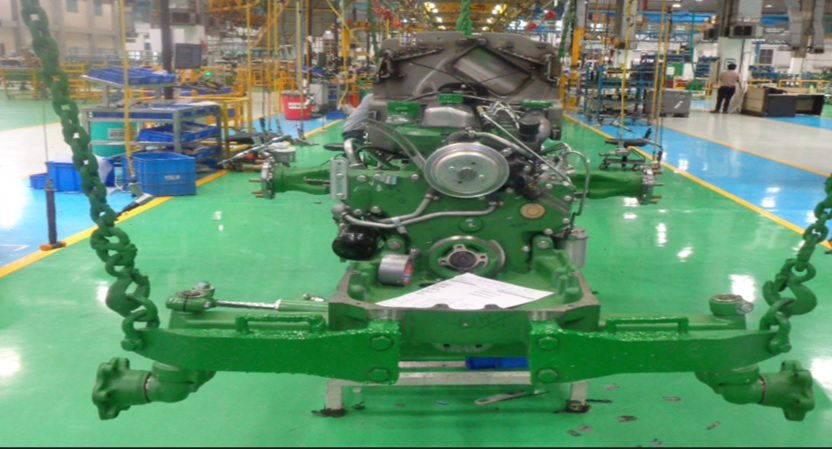engine: (90, 41, 814, 428)
